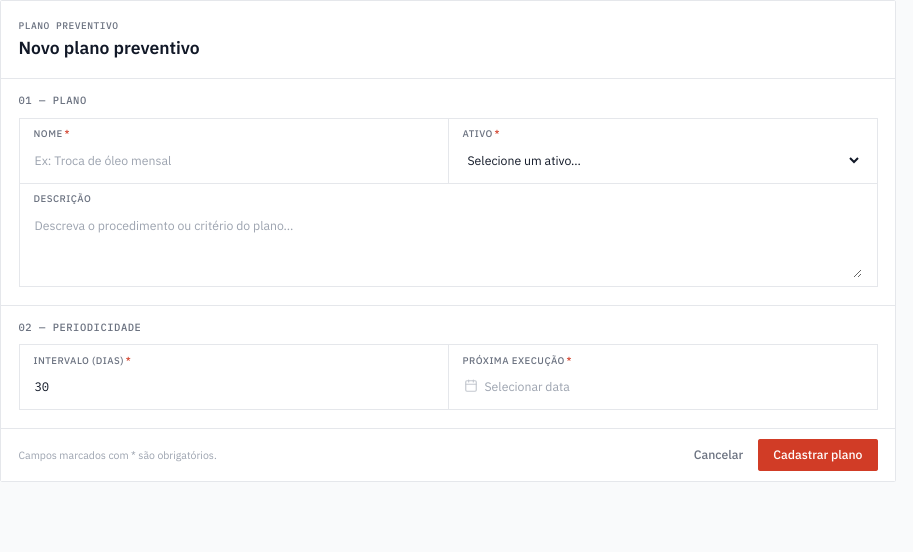
Test: PreventivePlanEditPage — modo criação › deve exigir a próxima execução antes de enviar
This screenshot has width=913, height=552.
Type "Troca de óleo mensal" into the field labelled "Nome".
click(234, 160); type("Troca de óleo mensal")  # box [34,144,434,176]
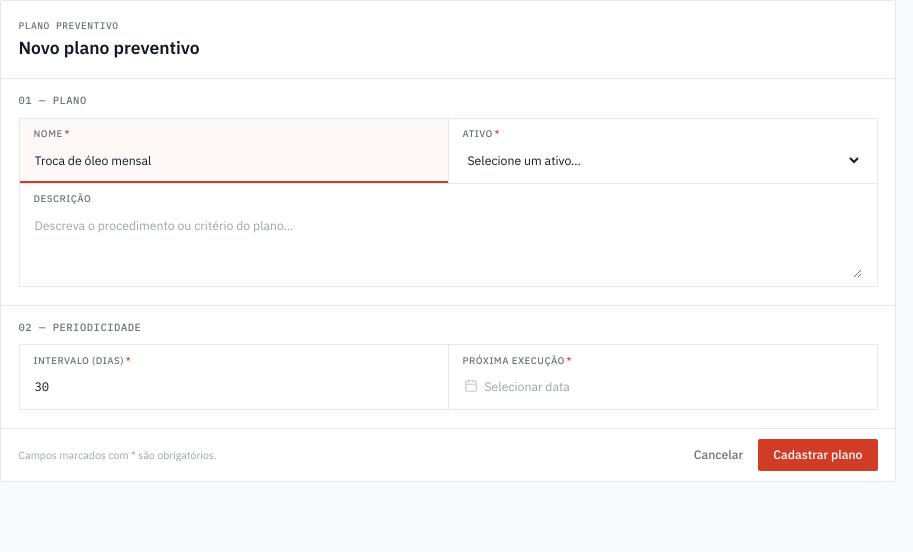
Select "Injetora 03 (INJ-003)" in the dropdown labelled "Ativo" at (662, 160), box [462,144,862,176]
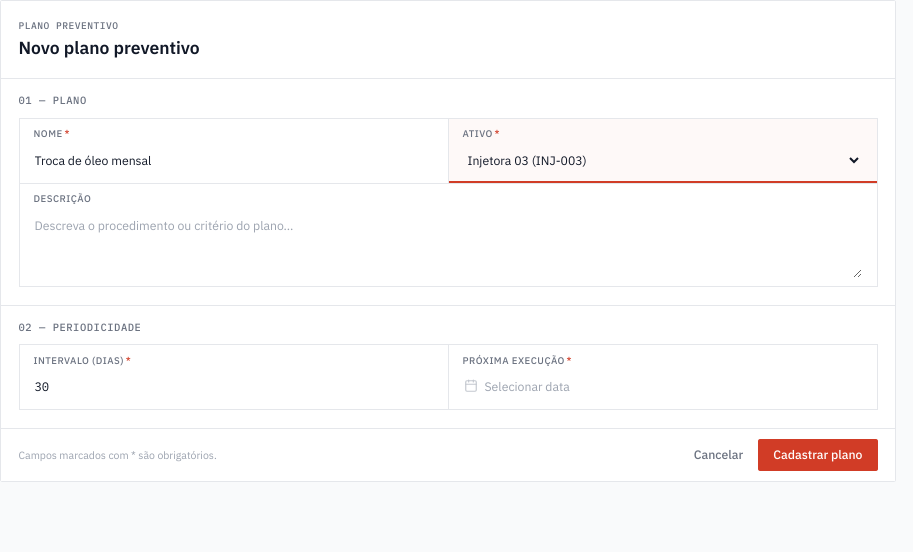
Click the button "Cadastrar plano".
click(818, 455)  # box [758,439,878,471]
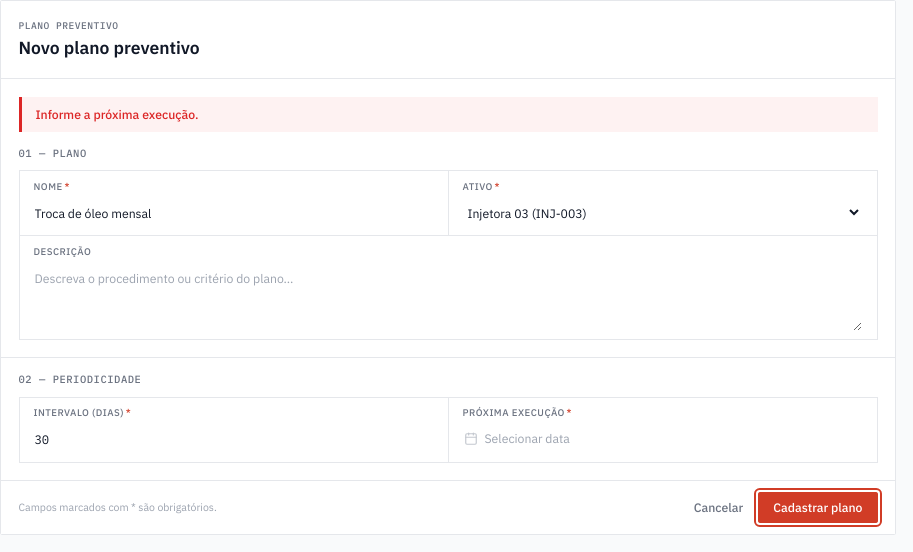
Now the text "Informe a próxima execução." is shown, box [18,97,878,132]
